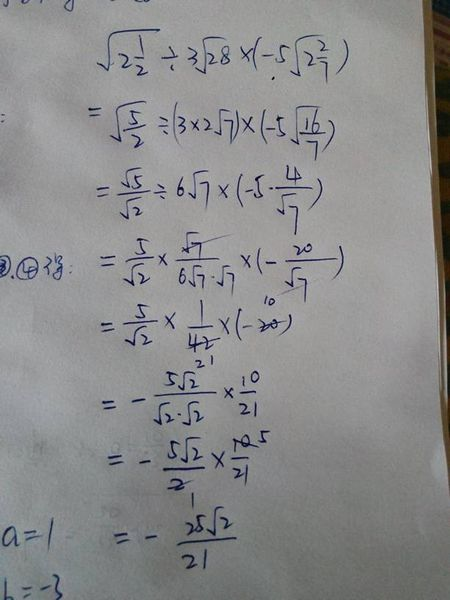sqrt: (98, 22, 163, 84), (287, 102, 325, 161), (106, 97, 147, 151), (291, 32, 332, 82), (276, 189, 311, 230), (196, 36, 232, 74), (205, 504, 235, 542), (282, 262, 310, 300), (213, 102, 237, 145), (180, 433, 207, 471), (187, 165, 210, 207), (122, 322, 154, 350), (127, 261, 157, 287), (179, 231, 206, 259), (119, 199, 148, 225), (217, 262, 239, 293), (187, 263, 210, 292), (155, 400, 176, 430), (121, 163, 145, 187), (182, 399, 204, 425), (181, 365, 201, 392)
